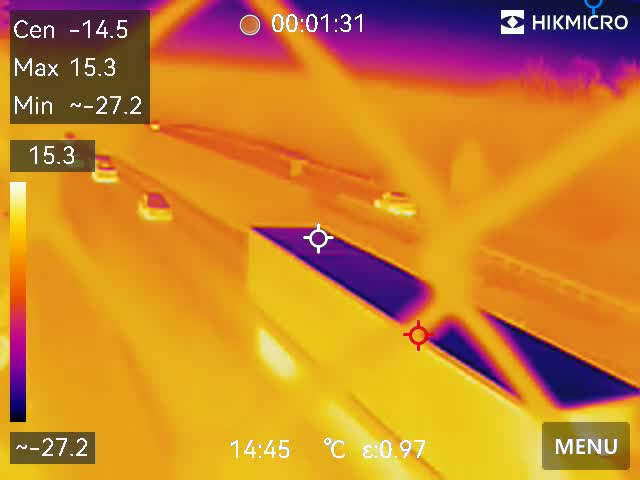heavyTruck: (240, 210, 640, 480)
vehicle: (369, 184, 426, 220), (133, 184, 177, 229), (87, 150, 123, 187)
